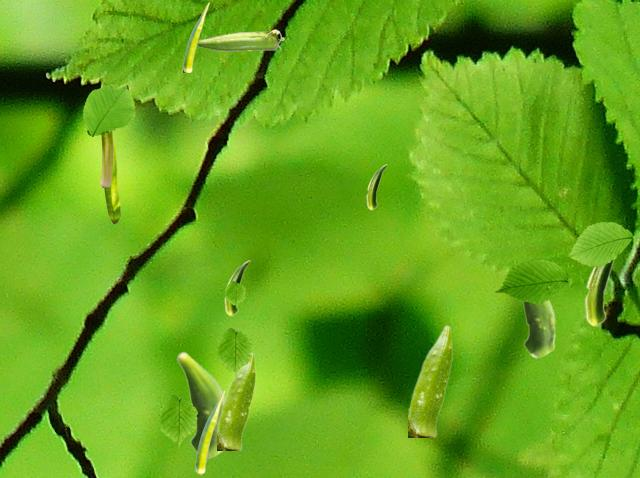okra: (176, 351, 225, 458), (408, 324, 452, 436), (217, 351, 255, 449), (195, 390, 224, 474), (584, 260, 614, 326), (522, 300, 555, 357), (198, 29, 283, 50), (183, 2, 208, 71), (103, 132, 120, 223), (224, 260, 249, 315), (100, 83, 112, 186), (366, 164, 386, 209)
